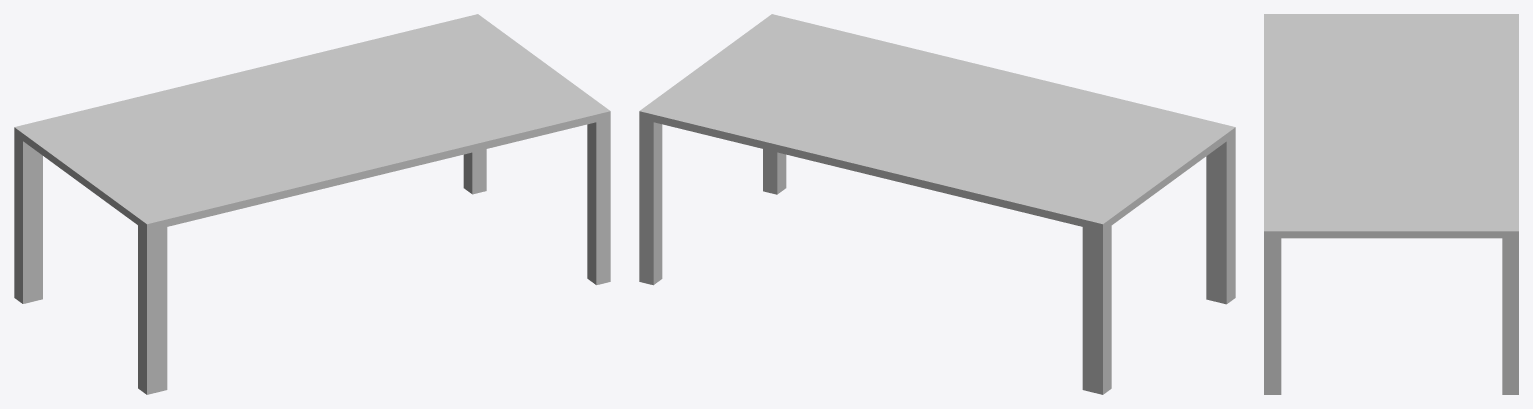
The model's file is table2.dae.
3 views of the same model, side by side, from view 1: azimuth 30°, elevation 25°; view 2: azimuth 150°, elevation 25°; view 3: azimuth 270°, elevation 25° (orthographic). The views are drawn at different scales.
Parts seen in each view (by area): view 1: Cube; view 2: Cube; view 3: Cube.
Boxes of the visible parts, box(x1,y1,x2,y2) form: Cube: box(14, 14, 610, 394); Cube: box(639, 14, 1235, 394); Cube: box(1264, 14, 1518, 394).
Size of the model in its own units: 10.13 by 5.02 by 3.56.
